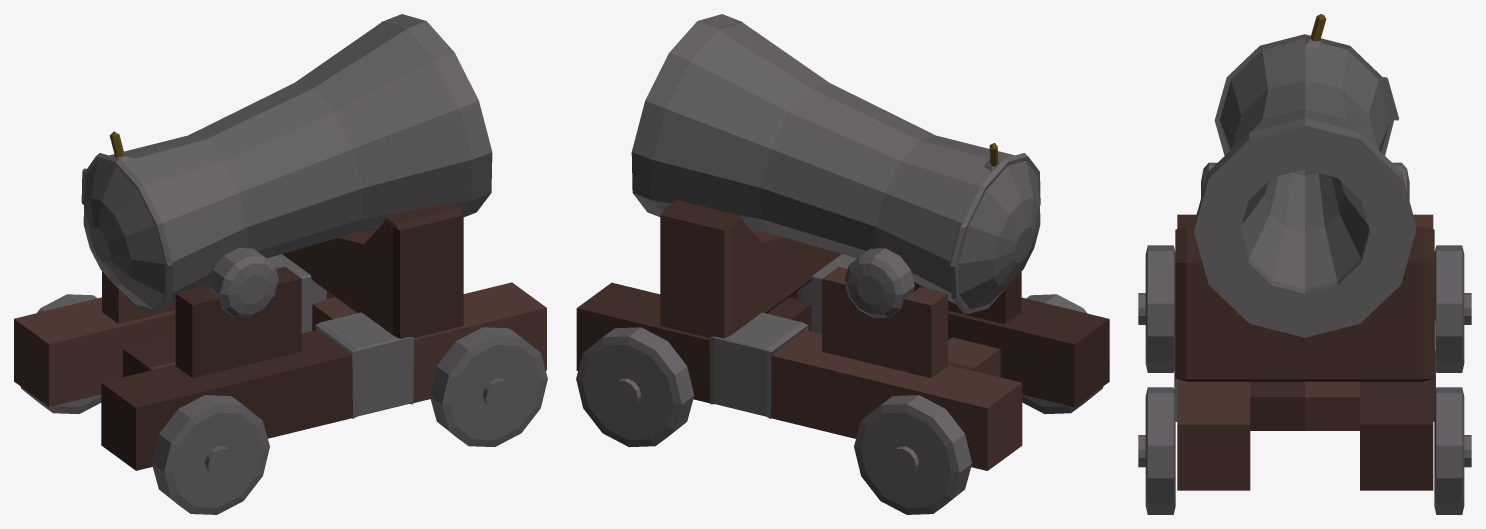
File: Canhao.fbx
3 views of the same model, side by side, from view 1: azimuth 30°, elevation 25°; view 2: azimuth 150°, elevation 25°; view 3: azimuth 270°, elevation 25° (orthographic). The views are drawn at different scales.
Parts seen in each view (by area): view 1: canhão; view 2: canhão; view 3: canhão.
Boxes of the visible parts, x1,y1,x2,y2 form: canhão: (14,14,547,514); canhão: (576,14,1109,514); canhão: (1138,14,1471,514).
Size of the model in its own units: 115 by 99.19 by 77.33.
